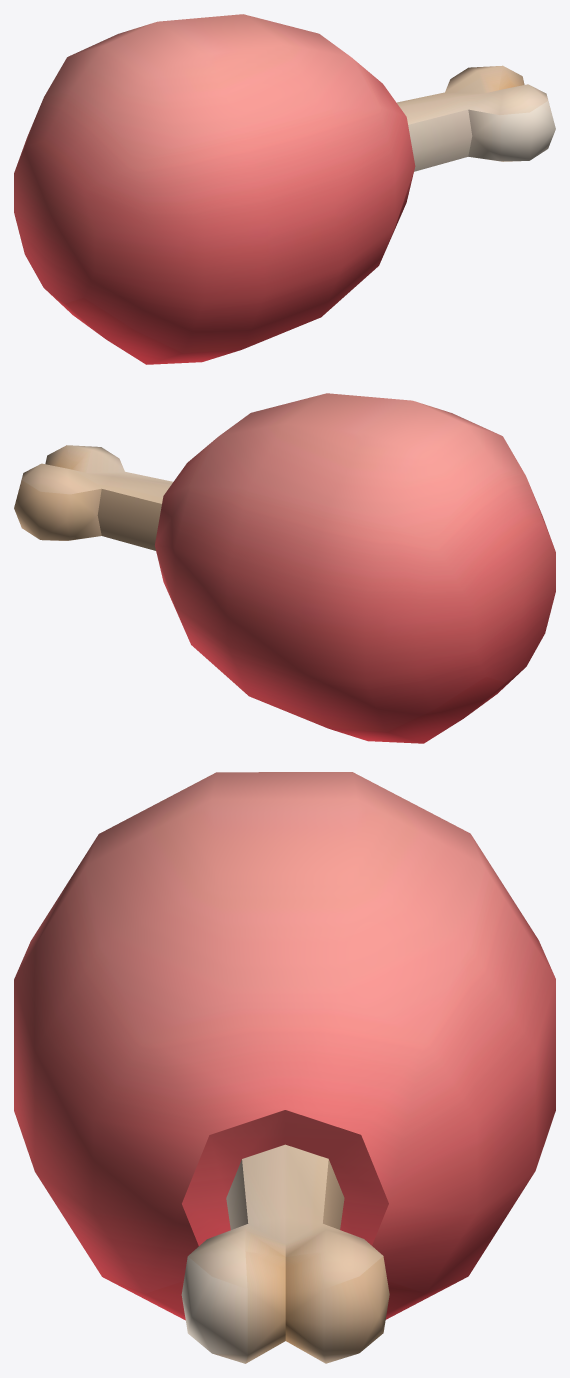
File: kaykit-restaurant-bits-food-ingredient-ham.glb
3 views of the same model, one above another, from view 1: azimuth 30°, elevation 25°; view 2: azimuth 150°, elevation 25°; view 3: azimuth 270°, elevation 25° (orthographic). The views are drawn at different scales.
Parts seen in each view (by area): view 1: food_ingredient_ham; view 2: food_ingredient_ham; view 3: food_ingredient_ham.
Boxes of the visible parts, left/top/right/bottom form: food_ingredient_ham: left=14, top=14, right=555, bottom=364; food_ingredient_ham: left=14, top=393, right=555, bottom=743; food_ingredient_ham: left=14, top=772, right=555, bottom=1363.
Size of the model in its own units: 1.39 by 0.83 by 0.83.
1 material, 1 textured.
